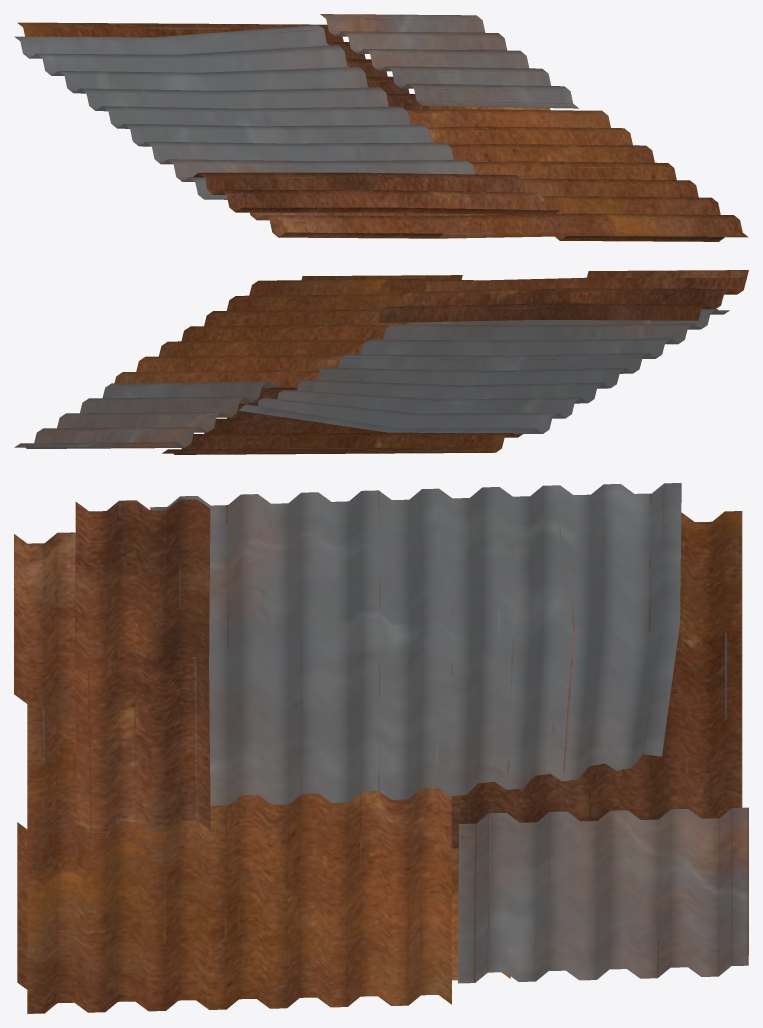
3 views of the same model, one above another, from view 1: azimuth 30°, elevation 25°; view 2: azimuth 150°, elevation 25°; view 3: azimuth 270°, elevation 25° (orthographic). The views are drawn at different scales.
Parts seen in each view (by area): view 1: E_R_3; view 2: E_R_3; view 3: E_R_3.
Boxes of the visible parts, x1,y1,x2,y2 form: E_R_3: (14, 14, 748, 241); E_R_3: (14, 270, 748, 454); E_R_3: (14, 483, 748, 1013).
Bounding box in the file's own units: 347 × 96.59 × 321.
1 material, 1 textured.
